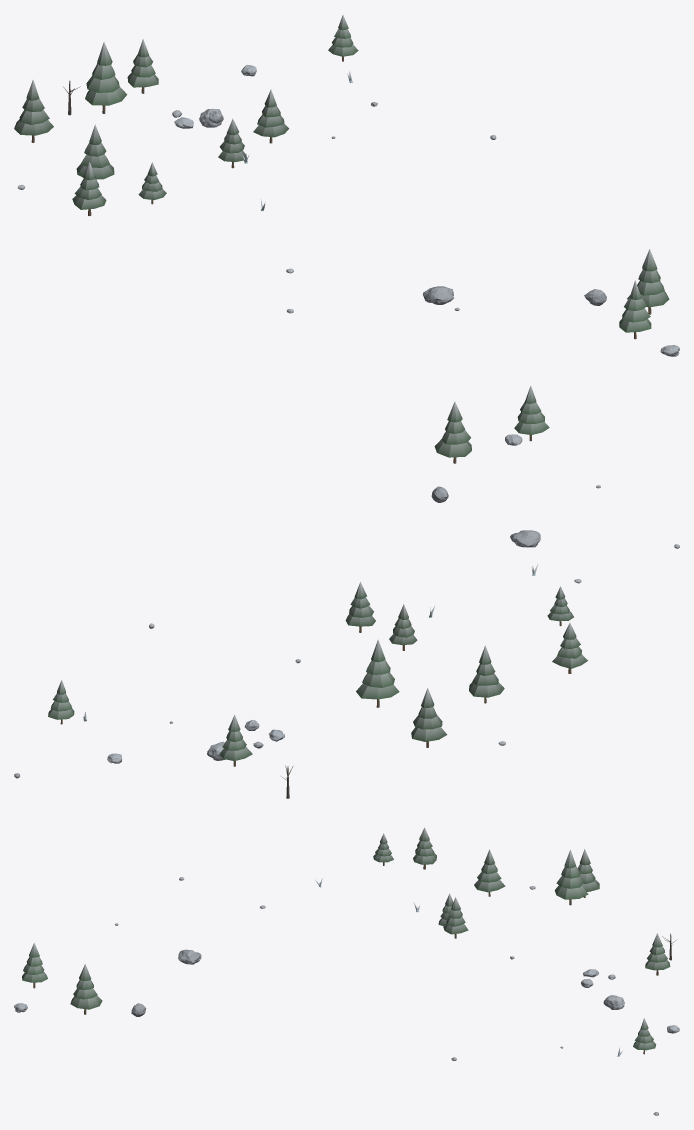
File: frost_land_scatter_c21_12.glb
3 views of the same model, one above another, from view 1: azimuth 30°, elevation 25°; view 2: azimuth 150°, elevation 25°; view 3: azimuth 270°, elevation 25° (orthographic). The views are drawn at different scales.
Parts seen in each view (by area): view 1: frost_land_scatter_c21_12; view 2: frost_land_scatter_c21_12; view 3: frost_land_scatter_c21_12.
Part boxes in pixels (x1,y1,x2,y2): frost_land_scatter_c21_12: [14, 15, 679, 356]; frost_land_scatter_c21_12: [14, 385, 679, 798]; frost_land_scatter_c21_12: [14, 827, 679, 1115].
Size of the model in its own units: 106 by 41.29 by 174.
